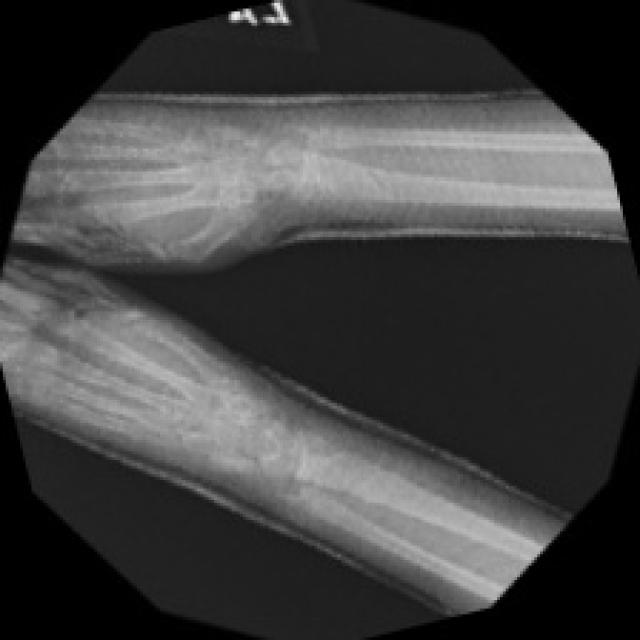fracture: (359, 161, 423, 215)
